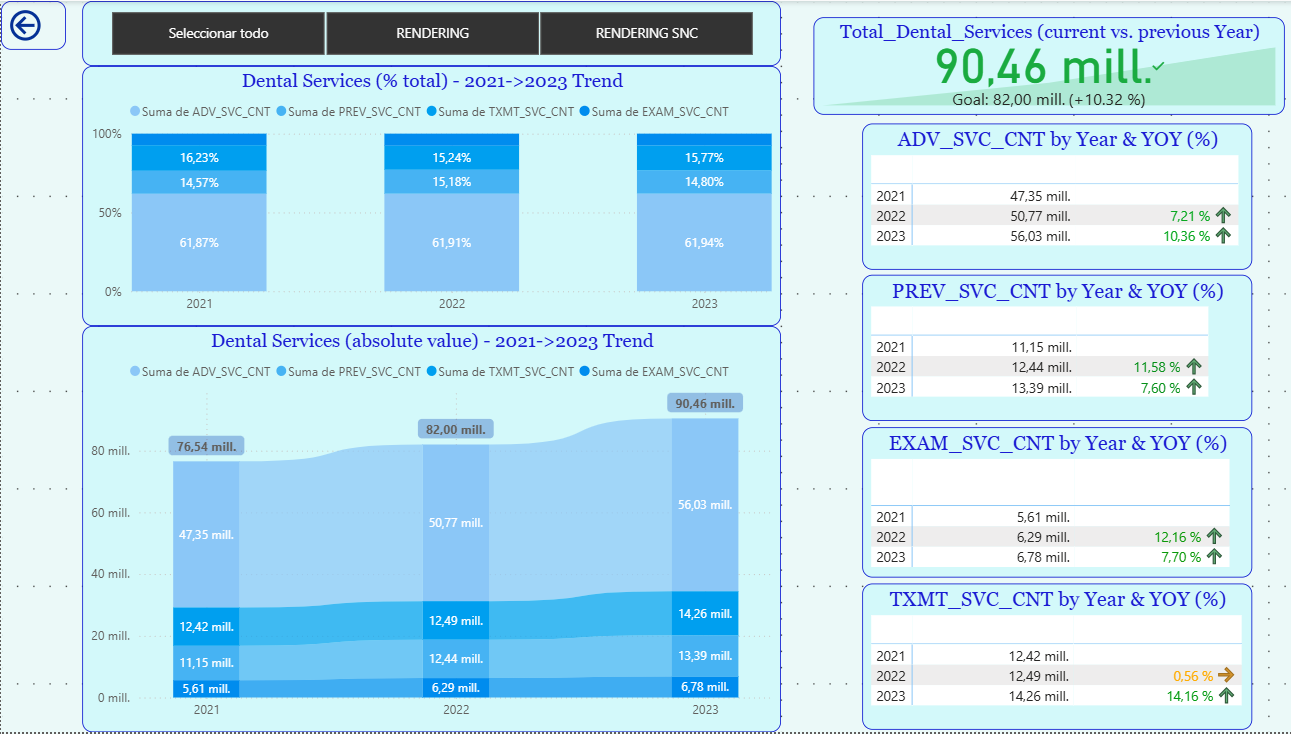

The page's visual inventory and layout, read from the dashboard file:
{"tool":"powerbi","page":{"name":"1_Dental Services Trend","canvas":[1280,720],"ordinal":1},"visuals":[{"type":"hundredPercentStackedColumnChart","title":"Dental Services (% total) -  2021->2023 Trend","fields":{"Category":["Date_Table.Date.Variación.Jerarquía de fechas.Año"],"Y":["Sum(DentalDataAllYears.ADV_SVC_CNT)","Sum(DentalDataAllYears.PREV_SVC_CNT)","Sum(DentalDataAllYears.TXMT_SVC_CNT)","Sum(DentalDataAllYears.EXAM_SVC_CNT)"]},"box":[80,64,688,256],"z":0},{"type":"ribbonChart","title":"Dental Services (absolute value) - 2021->2023 Trend","fields":{"Category":["Date_Table.Date.Variación.Jerarquía de fechas.Año"],"Y":["Sum(DentalDataAllYears.ADV_SVC_CNT)","Sum(DentalDataAllYears.PREV_SVC_CNT)","Sum(DentalDataAllYears.TXMT_SVC_CNT)","Sum(DentalDataAllYears.EXAM_SVC_CNT)"]},"box":[80,320,688,400],"z":1000},{"type":"pivotTable","title":"ADV_SVC_CNT by Year & YOY (%)","fields":{"Values":["Sum(DentalDataAllYears.ADV_SVC_CNT)","Tabla_Medidas.YOY_ADV_SVC_CNT"],"Rows":["Date_Table.Date.Variación.Jerarquía de fechas.Año"]},"box":[848,120,384,144],"z":2000},{"type":"pivotTable","title":"PREV_SVC_CNT by Year & YOY (%)","fields":{"Values":["Sum(DentalDataAllYears.PREV_SVC_CNT)","Tabla_Medidas.YOY_PREV_SVC_CNT"],"Rows":["Date_Table.Date.Variación.Jerarquía de fechas.Año"]},"box":[848,270,384,144],"z":3000},{"type":"pivotTable","title":"EXAM_SVC_CNT by Year & YOY (%)","fields":{"Values":["Sum(DentalDataAllYears.EXAM_SVC_CNT)","Tabla_Medidas.YOY_EXAM_SVC_CNT"],"Rows":["Date_Table.Date.Variación.Jerarquía de fechas.Año"]},"box":[848,420,384,148],"z":4000},{"type":"pivotTable","title":"TXMT_SVC_CNT by Year & YOY (%)","fields":{"Values":["Sum(DentalDataAllYears.TXMT_SVC_CNT)","Tabla_Medidas.YOY_TXMT_SVC_CNT"],"Rows":["Date_Table.Date.Variación.Jerarquía de fechas.Año"]},"box":[848,574,384,144],"z":5000},{"type":"slicer","fields":{"Values":["DentalDataAllYears.PROVIDER_TYPE"]},"box":[80,0,688,64],"z":6000},{"type":"kpi","title":"Total_Dental_Services (current vs. previous Year)","fields":{"TrendLine":["Date_Table.Date"],"Indicator":["Tabla_Medidas.Total_Servicios_Dentales"],"Goal":["Tabla_Medidas.Total_Servicios_Dentales_AñoAnterior"]},"box":[800,16,464,96],"z":7000},{"type":"actionButton","box":[0,0,64,48],"z":8000}]}

Visuals, with their boxes in screenshot pixels (x1, y1, x2, y2), scaled from the page's 1280x720 canvas onto the 1291x734 screenshot:
"Dental Services (% total) -  2021->2023 Trend" hundredPercentStackedColumnChart: bbox(81, 65, 775, 326)
"Dental Services (absolute value) - 2021->2023 Trend" ribbonChart: bbox(81, 326, 775, 733)
"ADV_SVC_CNT by Year & YOY (%)" pivotTable: bbox(855, 122, 1243, 269)
"PREV_SVC_CNT by Year & YOY (%)" pivotTable: bbox(855, 275, 1243, 422)
"EXAM_SVC_CNT by Year & YOY (%)" pivotTable: bbox(855, 428, 1243, 579)
"TXMT_SVC_CNT by Year & YOY (%)" pivotTable: bbox(855, 585, 1243, 732)
slicer - DentalDataAllYears.PROVIDER_TYPE: bbox(81, 0, 775, 65)
"Total_Dental_Services (current vs. previous Year)" kpi: bbox(807, 16, 1275, 114)
actionButton: bbox(0, 0, 65, 49)
